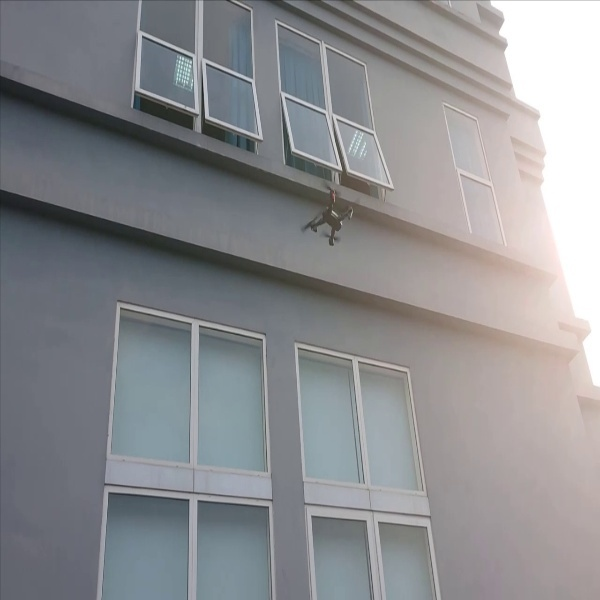drone: (297, 182, 358, 248)
